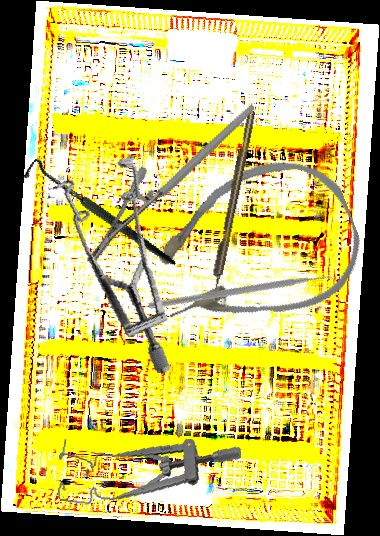Cannula: (130, 140, 377, 355)
Chopper: (146, 199, 345, 393)
Hook Surgical: (19, 124, 176, 308), (206, 110, 258, 302)
Needle Holder: (55, 103, 287, 269)
Speculum: (16, 138, 219, 376), (53, 423, 243, 523)
